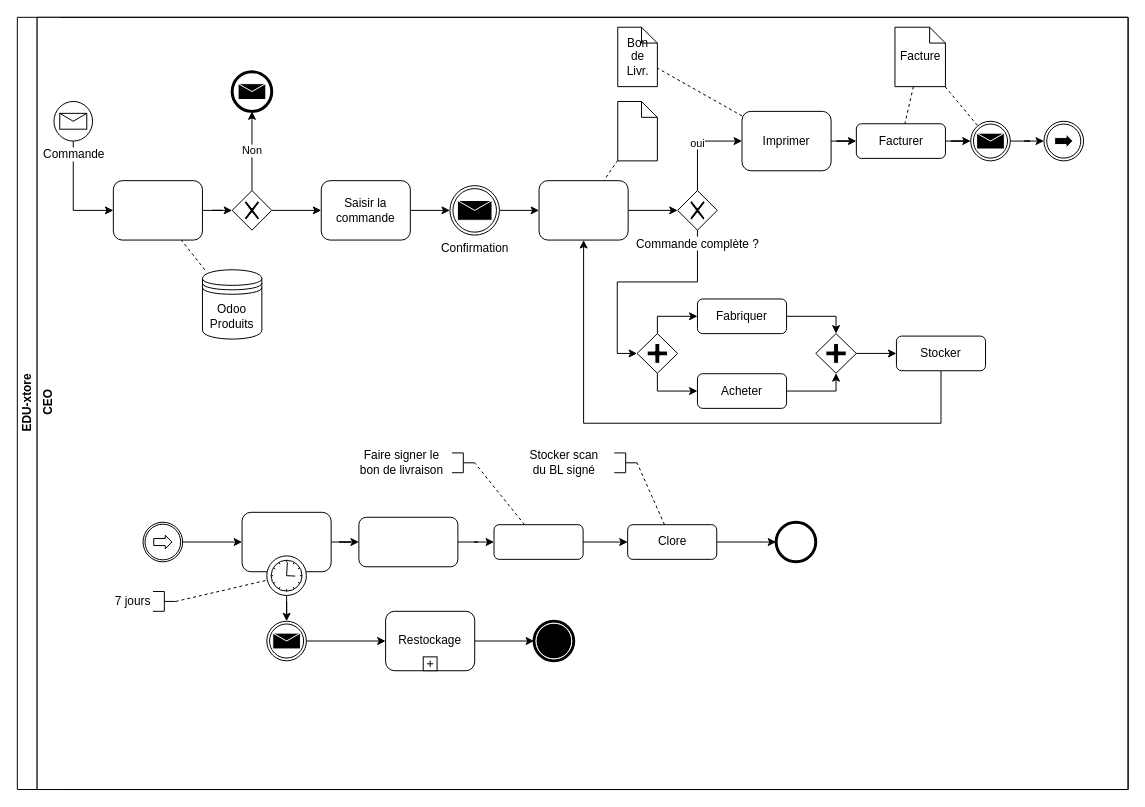
The diagram is 1145 pixels wide and 807 high, and some of its shapes have lost their labels. Here are the shapes that lost their labels. From the top down, the box of each, then its label:
(617, 100, 657, 161): Caisse
(112, 180, 202, 240): Vérifier les références produit
(231, 190, 272, 230): Toutes les références OK
(538, 180, 628, 240): Préparer la commande
(241, 511, 331, 572): Attente de paiement
(358, 516, 458, 567): Enregistrer Preuve de payement
(493, 524, 583, 559): Livrer
(266, 620, 306, 661): Annulation
